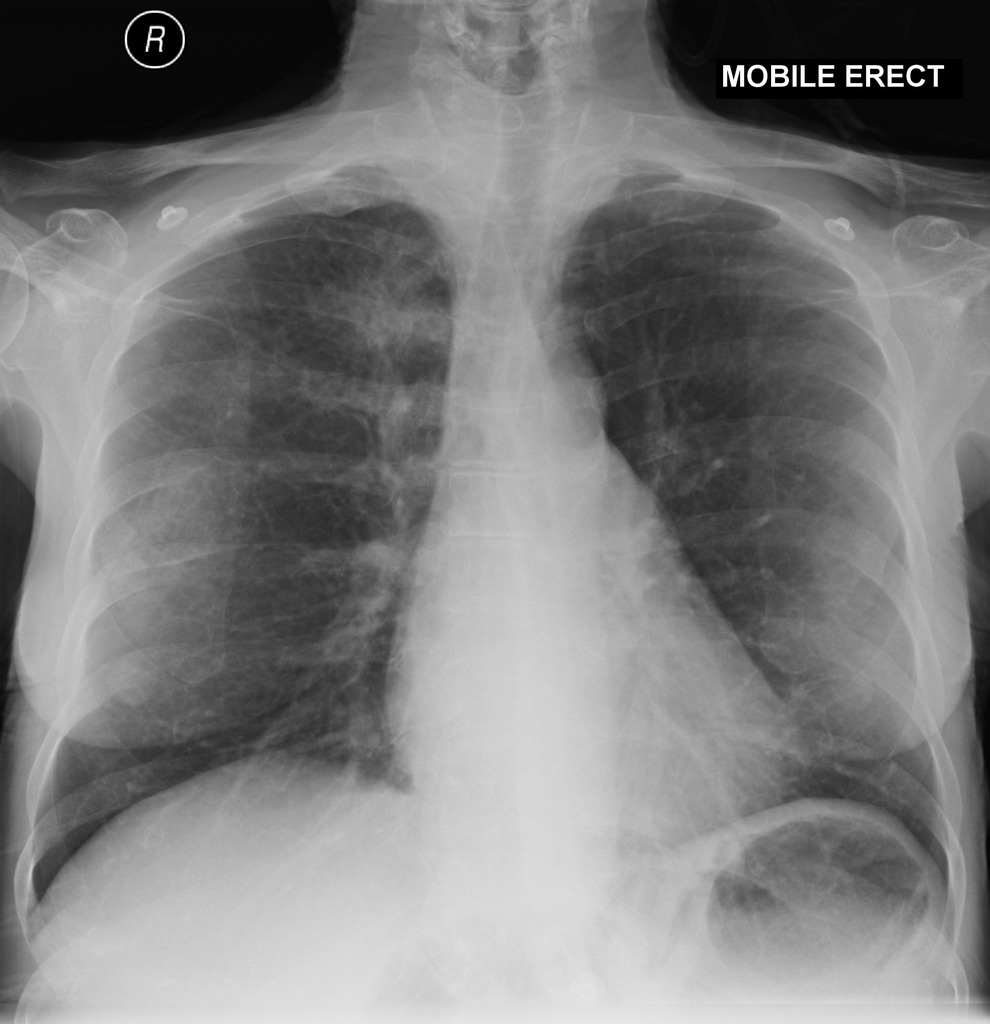cancer: (593, 310, 925, 850), (87, 280, 421, 800)
